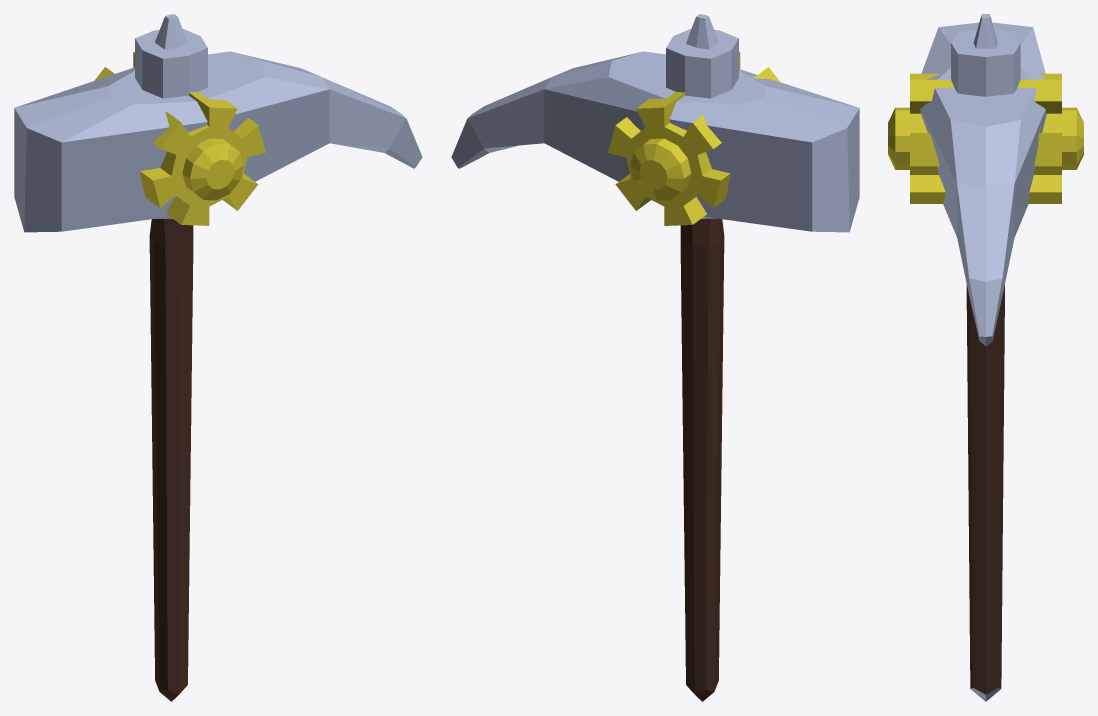
The model's file is Armor.fbx.
3 views of the same model, side by side, from view 1: azimuth 30°, elevation 25°; view 2: azimuth 150°, elevation 25°; view 3: azimuth 270°, elevation 25° (orthographic).
Visible parts, largest first — view 1: Cylinder; view 2: Cylinder; view 3: Cylinder.
Boxes of the visible parts, left/top/right/bottom form: Cylinder: left=14, top=14, right=422, bottom=701; Cylinder: left=451, top=14, right=859, bottom=701; Cylinder: left=888, top=14, right=1083, bottom=701.
Size of the model in its own units: 731 by 1207 by 312.
